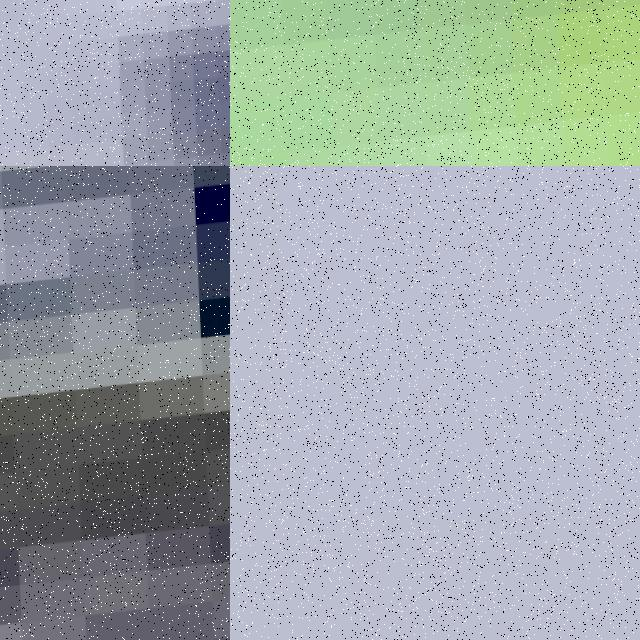0: (0, 0, 230, 166)
drone: (0, 166, 230, 640), (230, 0, 640, 166)
